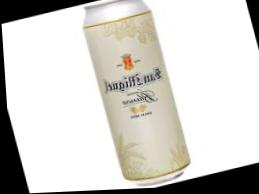metal: (82, 0, 191, 187)
